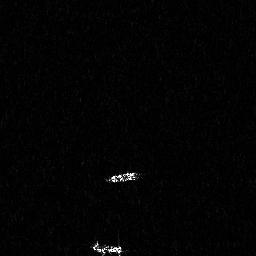ship: (88, 236, 127, 256), (102, 169, 143, 186)
